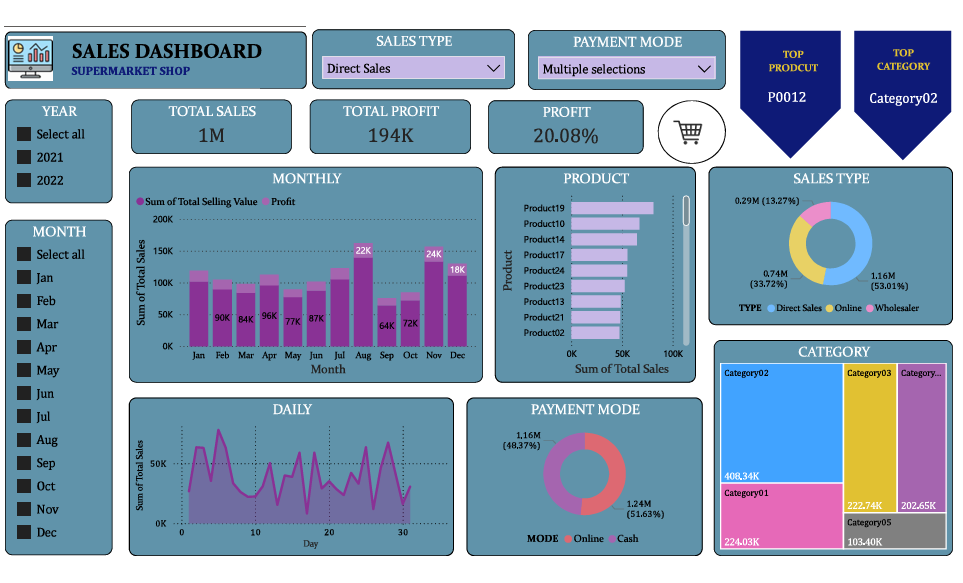

Layout of this report page (visuals, bound fields, positions):
{"tool":"powerbi","page":{"name":"Page 1","canvas":[1280,720],"ordinal":0},"visuals":[{"type":"shape","box":[873.9,99.7,90.8,84.9],"z":0},{"type":"shape","box":[982.6,6,137,174.2],"z":1000},{"type":"slicer","title":"YEAR","fields":{"Values":["InputData.Year"]},"box":[0,99,144,139],"z":2000},{"type":"slicer","title":"SALES TYPE","fields":{"Values":["InputData.SALE TYPE"]},"box":[411,5,272,80],"z":3000},{"type":"slicer","title":"PAYMENT MODE","fields":{"Values":["InputData.PAYMENT MODE"]},"box":[700,6,265,80],"z":4000},{"type":"card","title":"PROFIT","fields":{"Values":["InputData.profit%"]},"box":[647,100,208,72],"z":5000},{"type":"card","title":"TOTAL PROFIT","fields":{"Values":["InputData.Profit"]},"box":[408,99,216,73],"z":6000},{"type":"card","title":"TOTAL SALES","fields":{"Values":["Sum(InputData.Total Selling Value)"]},"box":[169,99,215,73],"z":7000},{"type":"columnChart","title":"MONTHLY","fields":{"Category":["InputData.Month name"],"Y":["Sum(InputData.Total Selling Value)","InputData.Profit"]},"box":[166.2,188.8,473.8,288.8],"z":9000},{"type":"clusteredBarChart","title":"PRODUCT","fields":{"Category":["InputData.MasterData.PRODUCT"],"Y":["Sum(InputData.Total Selling Value)"]},"box":[656,189,269,289],"z":10000},{"type":"areaChart","title":"DAILY","fields":{"Category":["InputData.Day"],"Y":["Sum(InputData.Total Selling Value)"]},"box":[166,498,435,212],"z":11000},{"type":"donutChart","title":"SALES TYPE","fields":{"Y":["Sum(InputData.Total Selling Value)"],"Category":["InputData.SALE TYPE"]},"box":[942,189,327,212],"z":12000},{"type":"donutChart","title":"PAYMENT MODE","fields":{"Y":["Sum(InputData.Total Selling Value)"],"Category":["InputData.PAYMENT MODE"]},"box":[618,498,316,212],"z":13000},{"type":"treemap","title":"CATEGORY","fields":{"Values":["Sum(InputData.Total Selling Value)"],"Group":["InputData.MasterData.CATEGORY"]},"box":[949,421,320,289],"z":14000},{"type":"shape","box":[0,2,404,82],"z":16000},{"type":"slicer","title":"MONTH","fields":{"Values":["InputData.Month name"]},"box":[0,260.5,144.3,448.8],"z":17000},{"type":"textbox","box":[1005,23.7,100.9,46.1],"z":18000},{"type":"shape","box":[1135.9,6,132.5,175.7],"z":20000},{"type":"textbox","box":[1152.3,22.3,101.2,46.2],"z":21000},{"type":"card","fields":{"Values":["Min(InputData.PRODUCT ID)"]},"box":[1009.4,80.4,75.9,32.8],"z":22000},{"type":"card","fields":{"Values":["Min(InputData.MasterData.CATEGORY)"]},"box":[1144.8,80.4,116.1,35.7],"z":23000},{"type":"textbox","box":[72,13,290,43],"z":24000},{"type":"textbox","box":[84,46,300,34],"z":25000},{"type":"image","box":[879.8,107.2,68.5,70],"z":26000},{"type":"image","box":[0,6,69,76],"z":26501}]}

Visuals, with their boxes in screenshot pixels (x1, y1, x2, y2):
shape: (x1=651, y1=99, x2=718, y2=162)
shape: (x1=732, y1=30, x2=833, y2=159)
"YEAR" slicer: (x1=3, y1=99, x2=109, y2=202)
"SALES TYPE" slicer: (x1=307, y1=29, x2=509, y2=88)
"PAYMENT MODE" slicer: (x1=522, y1=30, x2=718, y2=89)
"PROFIT" card: (x1=483, y1=99, x2=637, y2=153)
"TOTAL PROFIT" card: (x1=305, y1=99, x2=465, y2=153)
"TOTAL SALES" card: (x1=128, y1=99, x2=287, y2=153)
"MONTHLY" columnChart: (x1=126, y1=165, x2=477, y2=379)
"PRODUCT" clusteredBarChart: (x1=489, y1=165, x2=689, y2=380)
"DAILY" areaChart: (x1=126, y1=395, x2=448, y2=552)
"SALES TYPE" donutChart: (x1=701, y1=165, x2=944, y2=323)
"PAYMENT MODE" donutChart: (x1=461, y1=395, x2=695, y2=552)
"CATEGORY" treemap: (x1=707, y1=337, x2=944, y2=552)
shape: (x1=3, y1=27, x2=302, y2=87)
"MONTH" slicer: (x1=3, y1=218, x2=110, y2=551)
textbox: (x1=748, y1=43, x2=823, y2=77)
shape: (x1=845, y1=30, x2=944, y2=160)
textbox: (x1=857, y1=42, x2=933, y2=76)
card - Min(InputData.PRODUCT ID): (x1=751, y1=85, x2=808, y2=109)
card - Min(InputData.MasterData.CATEGORY): (x1=852, y1=85, x2=938, y2=111)
textbox: (x1=56, y1=35, x2=271, y2=67)
textbox: (x1=65, y1=59, x2=287, y2=84)
image: (x1=655, y1=105, x2=706, y2=157)
image: (x1=3, y1=30, x2=54, y2=86)
